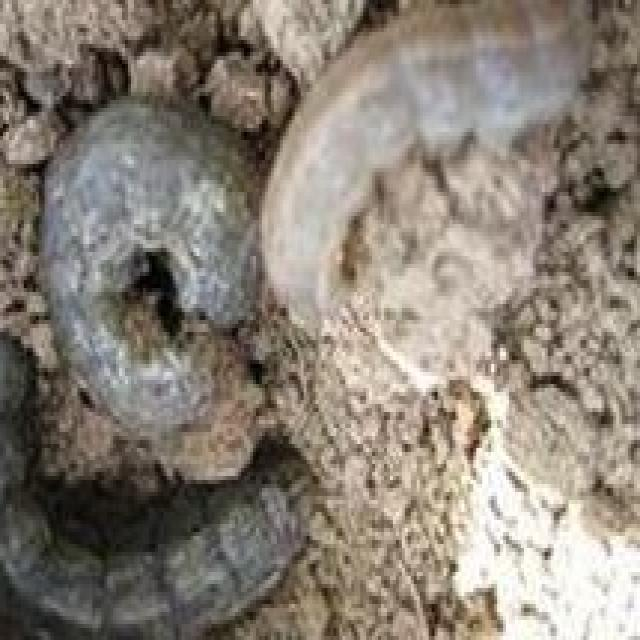black cutworm: (232, 1, 598, 341), (16, 67, 278, 471), (7, 451, 322, 631)
